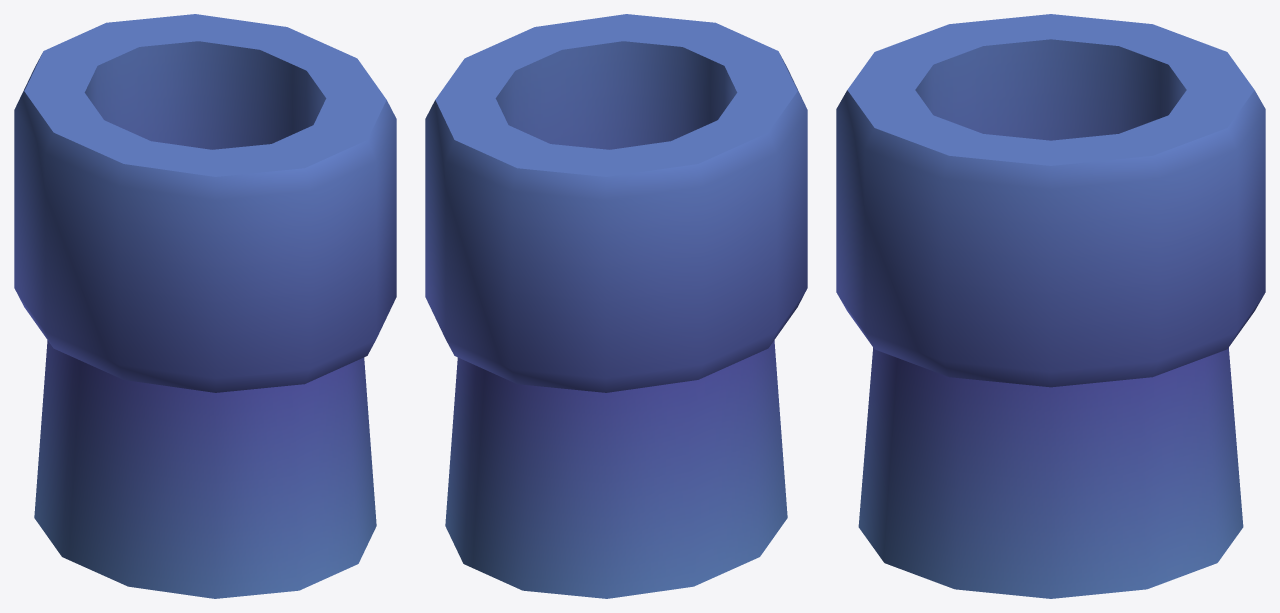
File: n5_n5_n5_pipe_lev5.glb
The picture shows the model from 3 angles, left to right: view 1: azimuth 30°, elevation 25°; view 2: azimuth 150°, elevation 25°; view 3: azimuth 270°, elevation 25°; orthographic projection. The views are drawn at different scales.
Parts seen in each view (by area): view 1: n5_n5_n5_pipe_lev5; view 2: n5_n5_n5_pipe_lev5; view 3: n5_n5_n5_pipe_lev5.
Part boxes in pixels (left/top/right/bottom): n5_n5_n5_pipe_lev5: left=14, top=14, right=396, bottom=598; n5_n5_n5_pipe_lev5: left=425, top=14, right=807, bottom=598; n5_n5_n5_pipe_lev5: left=836, top=14, right=1265, bottom=598.
Size of the model in its own units: 5.29 by 6.73 by 5.99.
1 material, 1 textured.
